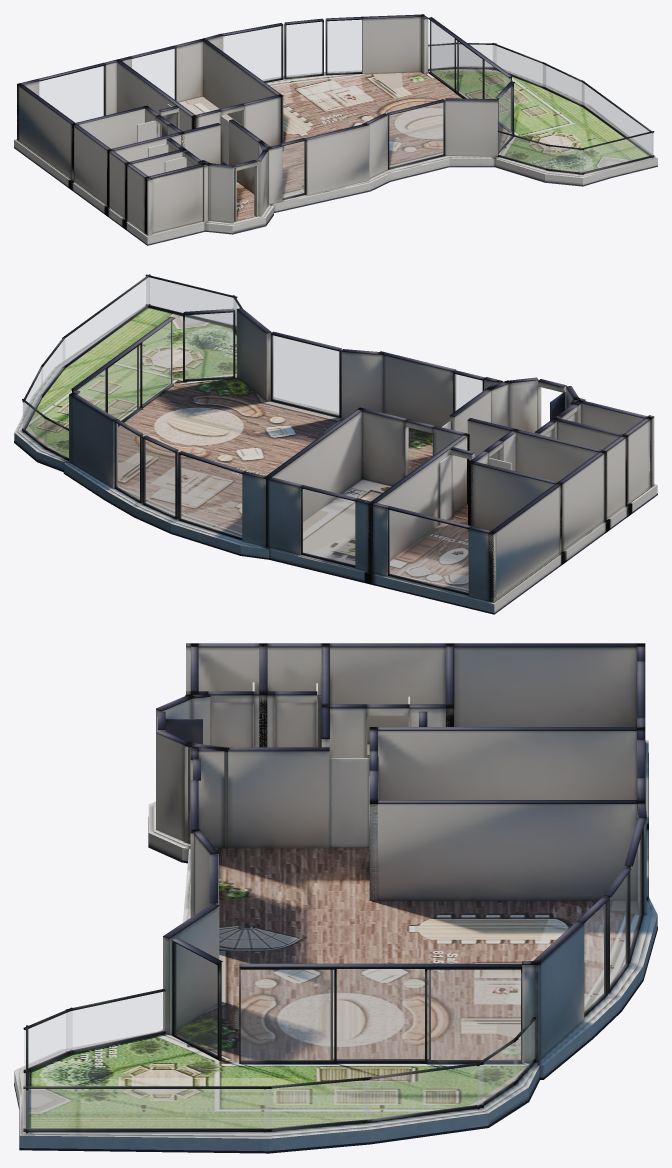
3 views of the same model, one above another, from view 1: azimuth 30°, elevation 25°; view 2: azimuth 150°, elevation 25°; view 3: azimuth 270°, elevation 25° (orthographic). The views are drawn at different scales.
Visible parts, largest first — view 1: plan, glass5_m, glass6_m, glass0_m, glass2_m, glass3_m, glass4_m, railg5_m, railg4_m, glass1_m, railg7_m, railg2_m (+6 smaller); view 2: plan, glass0_m, glass5_m, glass6_m, glass2_m, glass1_m, glass8_m, railg4_m, railg5_m, glass3_m, glass4_m, railg0_m (+4 smaller); view 3: plan, glass5_m, railg4_m, railg2_m, railg3_m, railg7_m, glass8_m, glass4_m, railg6_m, railg1_m, glass3_m, glass2_m (+1 smaller).
Part boxes in pixels (x1,y1,x2,y2): plan: (14,14,657,245); glass5_m: (429,20,510,130); glass6_m: (389,102,443,167); glass0_m: (39,66,103,122); glass2_m: (223,26,281,81); glass3_m: (286,22,322,77); glass4_m: (327,20,361,73); railg5_m: (580,133,653,172); railg4_m: (582,83,652,155); glass1_m: (132,49,174,99); railg7_m: (498,132,550,168); railg2_m: (493,45,545,86); plan: (14,274,657,614); glass0_m: (389,510,468,592); glass5_m: (77,320,172,420); glass6_m: (272,335,338,415); glass2_m: (180,455,241,537); glass1_m: (302,489,354,565); glass8_m: (185,312,233,379); railg4_m: (63,277,149,366); railg5_m: (146,277,236,324); glass3_m: (145,439,174,516); glass4_m: (116,423,139,500); railg0_m: (44,418,68,458); plan: (14,643,657,1153); glass5_m: (241,969,520,1060); railg4_m: (23,1089,271,1128); railg2_m: (363,1065,483,1120); railg3_m: (264,1080,370,1128); railg7_m: (66,992,164,1051); glass8_m: (175,943,217,1055); glass4_m: (584,904,605,1012); railg6_m: (24,1011,71,1069); railg1_m: (477,1040,517,1108); glass3_m: (610,876,626,986); glass2_m: (630,836,641,951).
Size of the model in its own units: 19.9 by 2.62 by 13.58.
Materials: 2 (1 with a texture image).
